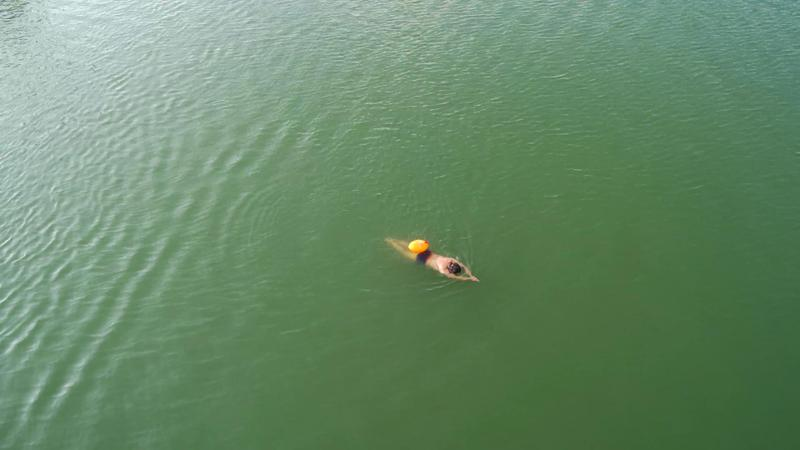swimmers: (386, 235, 479, 284)
